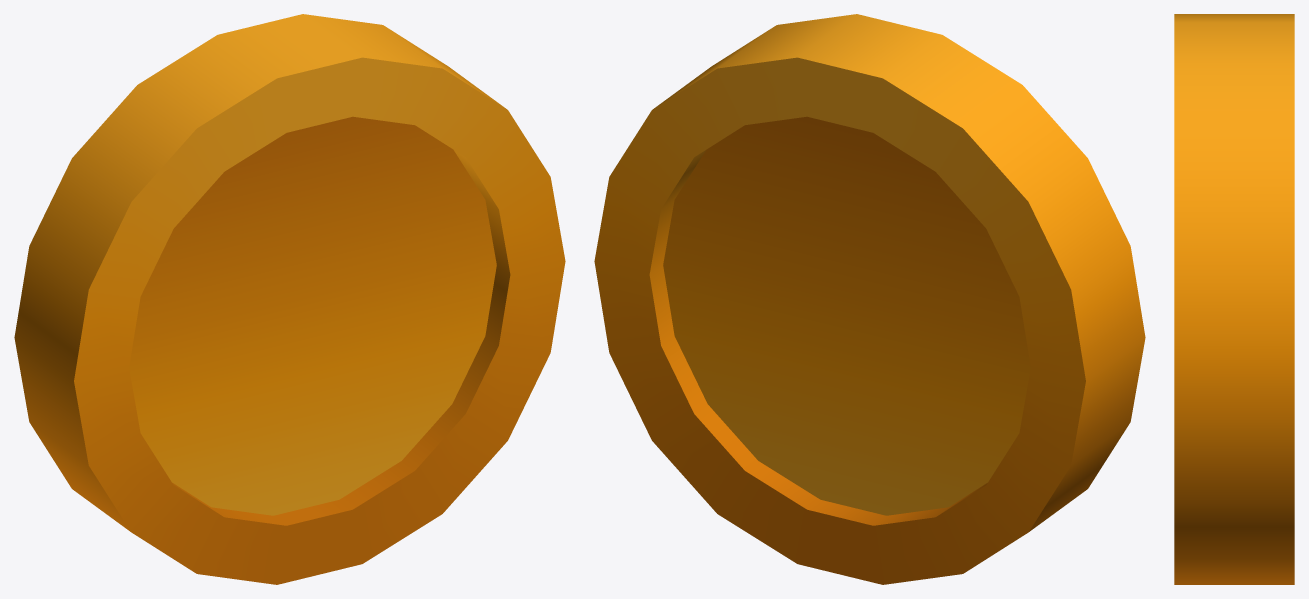
File: Collectable_Coin_01.fbx
3 views of the same model, side by side, from view 1: azimuth 30°, elevation 25°; view 2: azimuth 150°, elevation 25°; view 3: azimuth 270°, elevation 25° (orthographic).
Visible parts, largest first — view 1: Collectable_Coin_01; view 2: Collectable_Coin_01; view 3: Collectable_Coin_01.
Boxes of the visible parts, bbox=[...] form: Collectable_Coin_01: bbox=[14, 14, 565, 584]; Collectable_Coin_01: bbox=[594, 14, 1145, 584]; Collectable_Coin_01: bbox=[1174, 14, 1294, 584].
Bounding box in the file's own units: 79.7 × 78.49 × 16.71.
